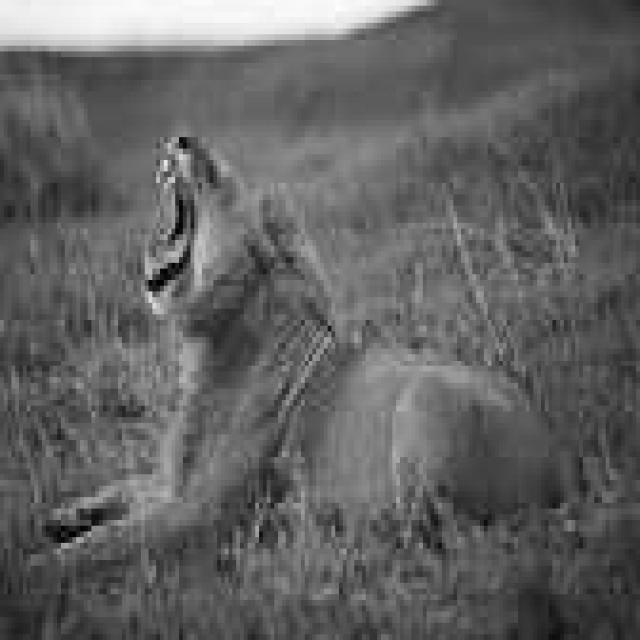Lion: (110, 124, 520, 566)
